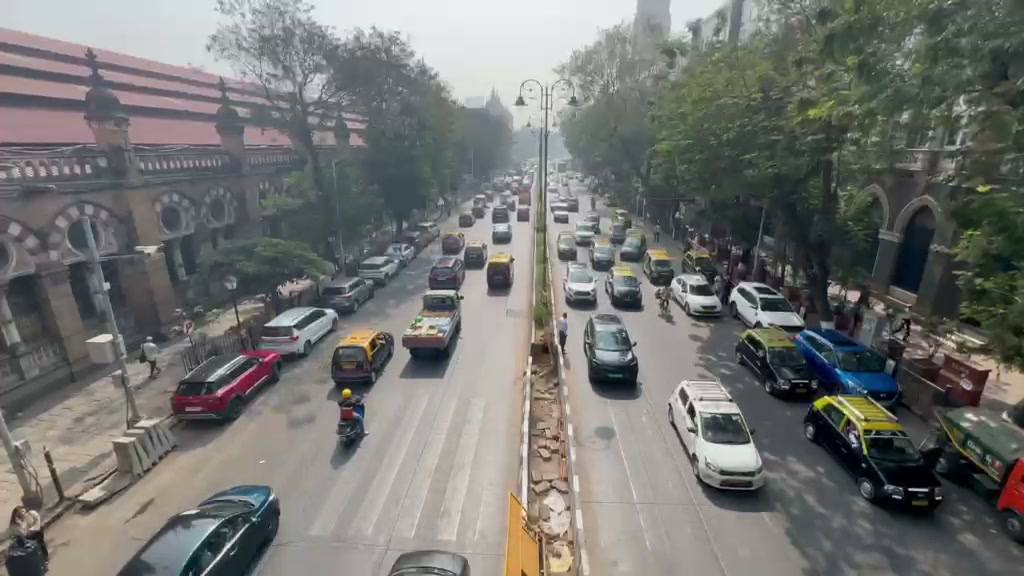bus: (491, 206, 513, 243)
car: (116, 483, 282, 575), (666, 378, 766, 493), (795, 326, 903, 405), (170, 350, 283, 421), (732, 326, 818, 400), (253, 306, 339, 358), (329, 328, 396, 389), (583, 314, 640, 385), (729, 281, 806, 330), (401, 311, 462, 359), (994, 456, 1024, 543), (669, 273, 725, 317), (316, 274, 375, 315), (388, 549, 472, 575), (604, 268, 644, 309), (358, 254, 404, 286), (564, 265, 599, 307), (428, 258, 466, 292), (486, 251, 515, 294), (618, 234, 646, 263)
motorcycle: (335, 402, 366, 447)
truck: (801, 394, 945, 513), (933, 401, 1023, 495), (486, 250, 515, 294)
